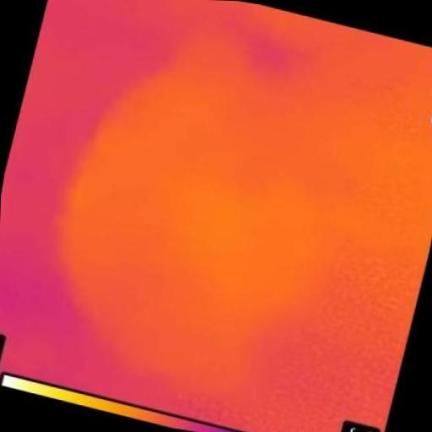mango: (67, 35, 331, 398)
